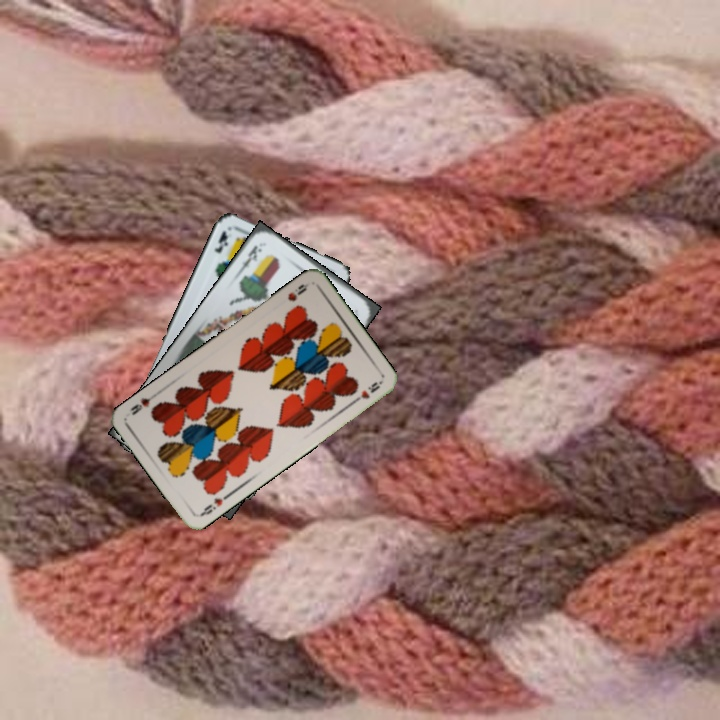EK: (234, 241, 264, 275), (210, 227, 230, 256)
H9: (196, 494, 226, 519), (283, 279, 312, 304)
